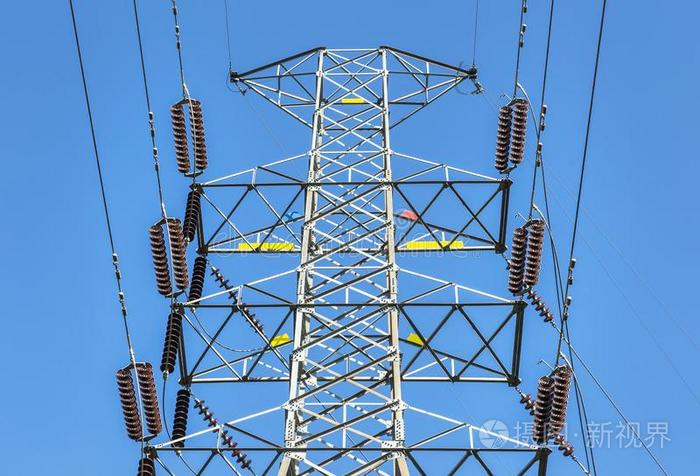insulator: (119, 363, 162, 441), (534, 365, 574, 443), (508, 216, 545, 293), (149, 220, 185, 294), (172, 99, 207, 175), (494, 96, 527, 171), (170, 390, 192, 446), (162, 312, 182, 371), (188, 256, 208, 304), (528, 289, 554, 324), (185, 189, 201, 241), (136, 458, 156, 476)
